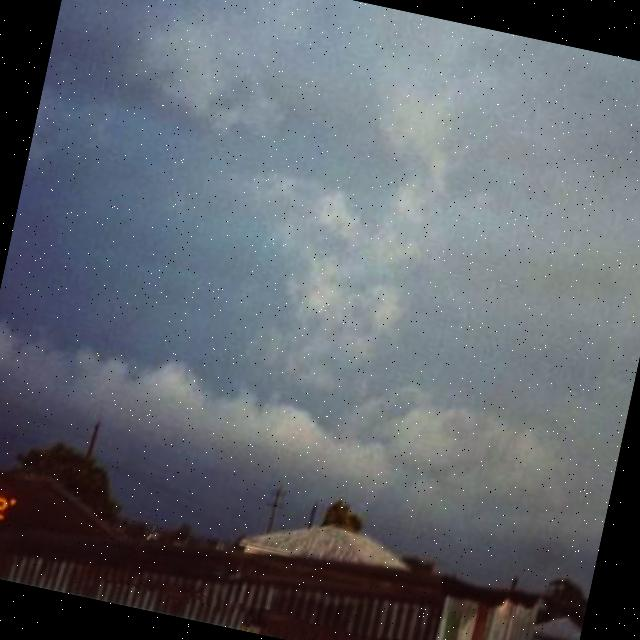Ns: (1, 27, 640, 509)
